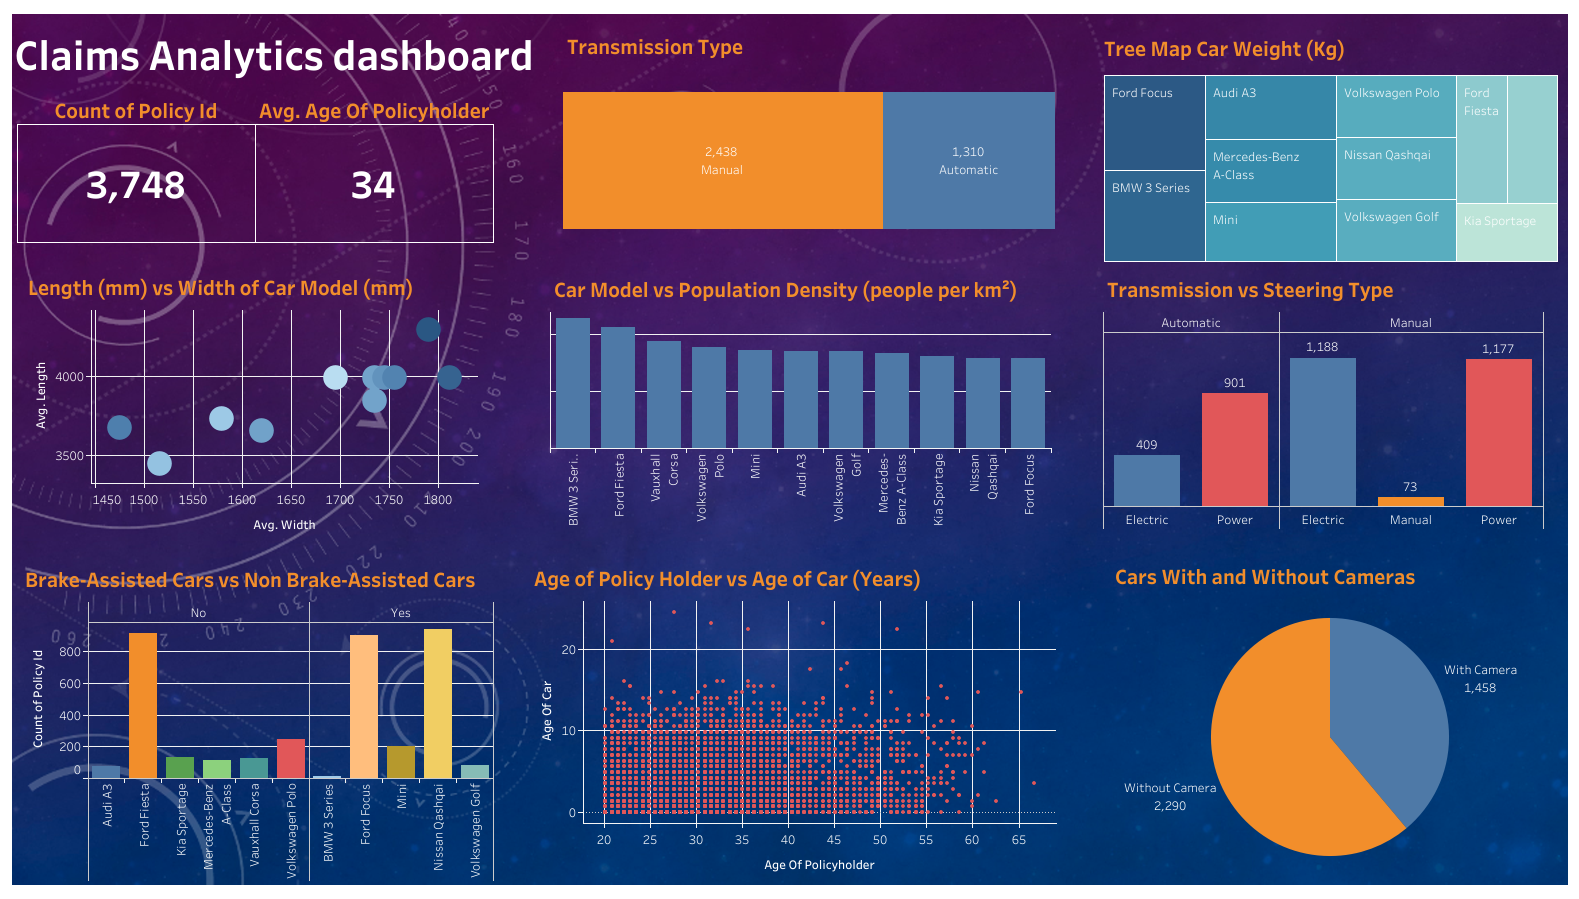

Layout of this report page (visuals, bound fields, positions):
{"tool":"tableau","page":{"name":"Claims Dashboard","canvas":[1580,900],"ordinal":0},"visuals":[{"type":"image","param":"Image/Screenshot 2023-03-29 at 21.01.02.png","box":[8,8,1564,884]},{"type":"text","box":[12,14,547,79]},{"type":"worksheet","title":"Transmission Type","mark":"Automatic","cols":["policy_id"],"box":[563,26,518,227]},{"type":"worksheet","title":"Tree Map Car Weight (Kg)","mark":"Automatic","box":[1100,28,461,237]},{"type":"worksheet","title":"KPI","mark":"Automatic","box":[17,84,477,159]},{"type":"worksheet","title":"Length (mm) vs Width of Car Model (mm)","mark":"Circle","rows":["length"],"cols":["width"],"box":[24,267,454,273]},{"type":"worksheet","title":"Car Model vs Population Density (people per km²)","mark":"Automatic","rows":["population_density"],"cols":["model_values"],"box":[550,269,501,260]},{"type":"worksheet","title":"Transmission vs Steering Type","mark":"Automatic","rows":["policy_id"],"cols":["transmission_type","steering_type"],"box":[1103,269,441,260]},{"type":"worksheet","title":"Cars With and Without Cameras","mark":"Pie","box":[1111,556,438,319]},{"type":"worksheet","title":"Age of Policy Holder vs Age of Car (Years)","mark":"Automatic","rows":["age_of_car"],"cols":["age_of_policyholder"],"box":[530,558,526,322]},{"type":"worksheet","title":"Brake-Assisted Cars vs Non Brake-Assisted Cars","mark":"Automatic","rows":["policy_id"],"cols":["is_brake_assist","model_values"],"box":[21,559,473,322]}]}

Visuals, with their boxes in screenshot pixels (x1, y1, x2, y2), scaled from the page's 1580x900 canvas onto the 1579x899 screenshot:
image: <box>8,8,1571,891</box>
text: <box>12,14,559,93</box>
"Transmission Type" worksheet: <box>563,26,1080,253</box>
"Tree Map Car Weight (Kg)" worksheet: <box>1099,28,1560,265</box>
"KPI" worksheet: <box>17,84,494,243</box>
"Length (mm) vs Width of Car Model (mm)" worksheet (Circle marks): <box>24,267,478,539</box>
"Car Model vs Population Density (people per km²)" worksheet: <box>550,269,1050,528</box>
"Transmission vs Steering Type" worksheet: <box>1102,269,1543,528</box>
"Cars With and Without Cameras" worksheet (Pie marks): <box>1110,555,1548,874</box>
"Age of Policy Holder vs Age of Car (Years)" worksheet: <box>530,557,1055,879</box>
"Brake-Assisted Cars vs Non Brake-Assisted Cars" worksheet: <box>21,558,494,880</box>
